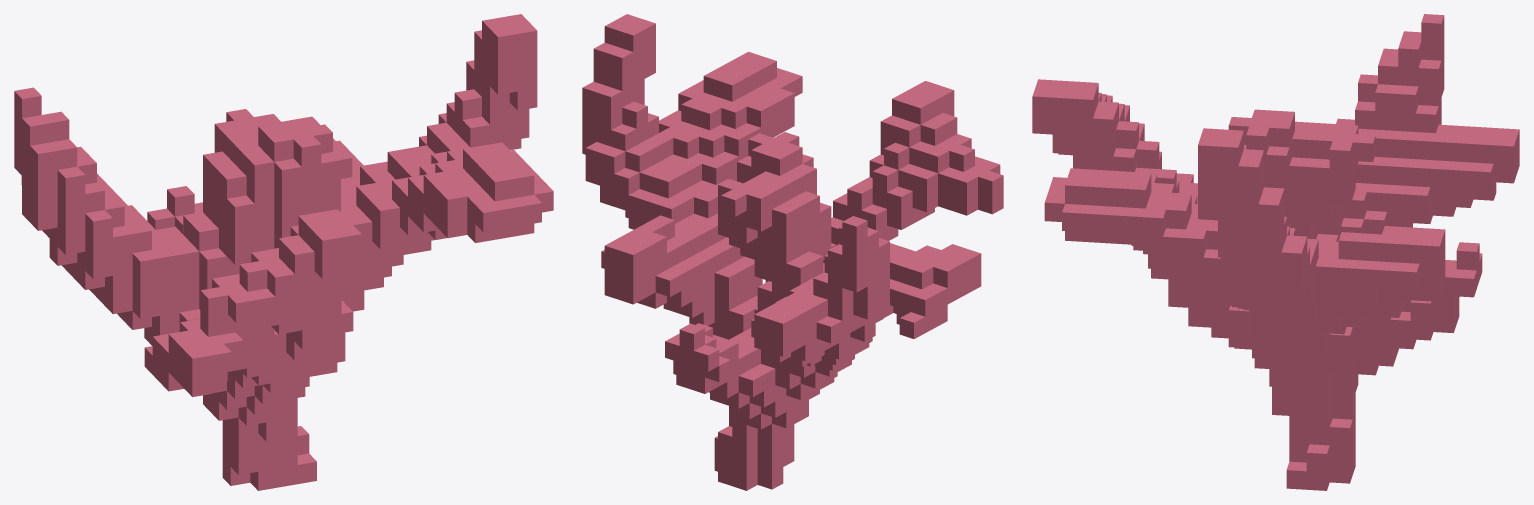
File: MediumCoral2.fbx
3 renders of one model, left to right at view 1: azimuth 30°, elevation 25°; view 2: azimuth 150°, elevation 25°; view 3: azimuth 270°, elevation 25°, orthographic. The views are drawn at different scales.
Visible parts, largest first — view 1: Cube.111; view 2: Cube.111; view 3: Cube.111.
Boxes of the visible parts, box(x1,y1,x2,y2) form: Cube.111: box(14, 14, 553, 490); Cube.111: box(582, 14, 1003, 490); Cube.111: box(1032, 14, 1519, 490).
Size of the model in its own units: 77.37 by 79.07 by 82.11.
